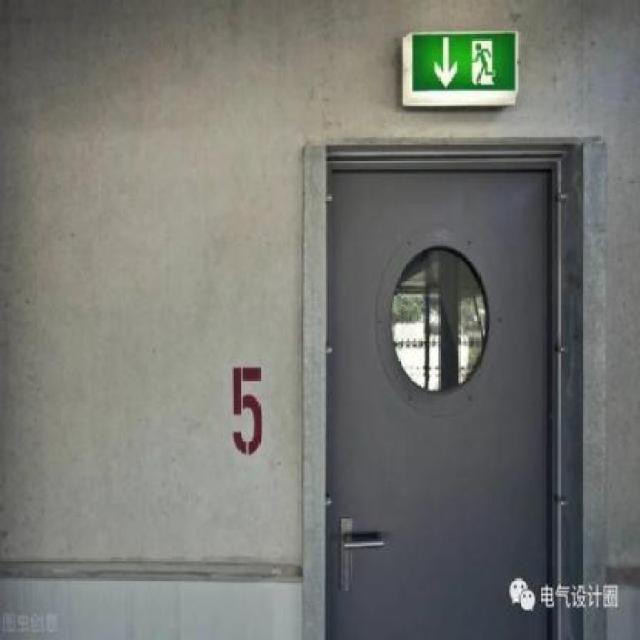exit_sign: (397, 25, 527, 113)
